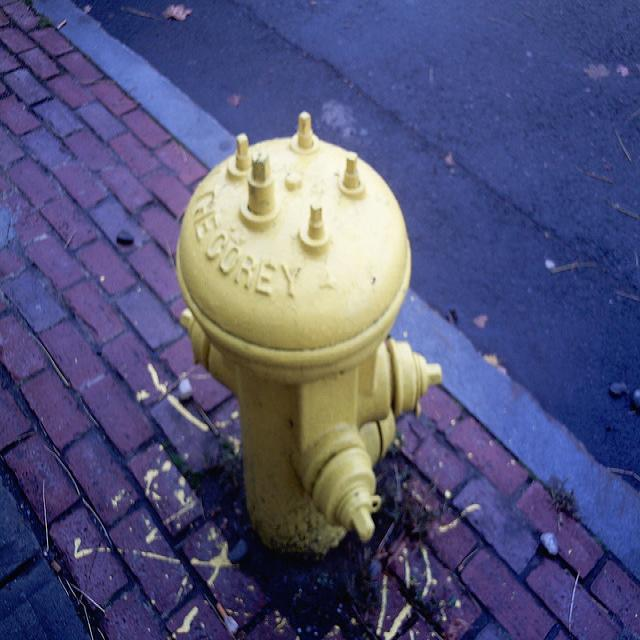fire_hydrant: (176, 106, 443, 562)
